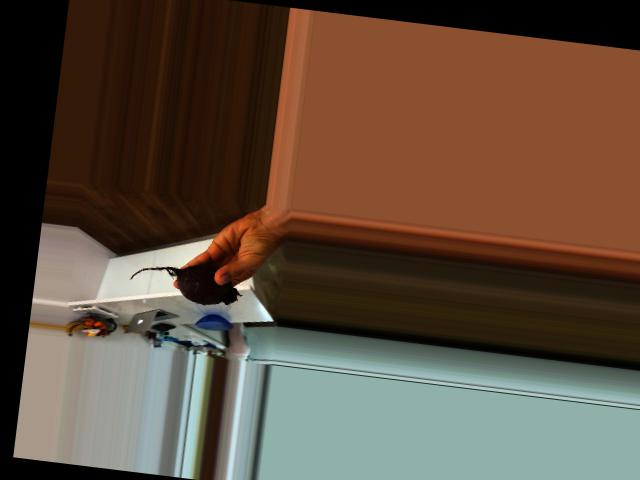beet: (127, 256, 243, 308)
